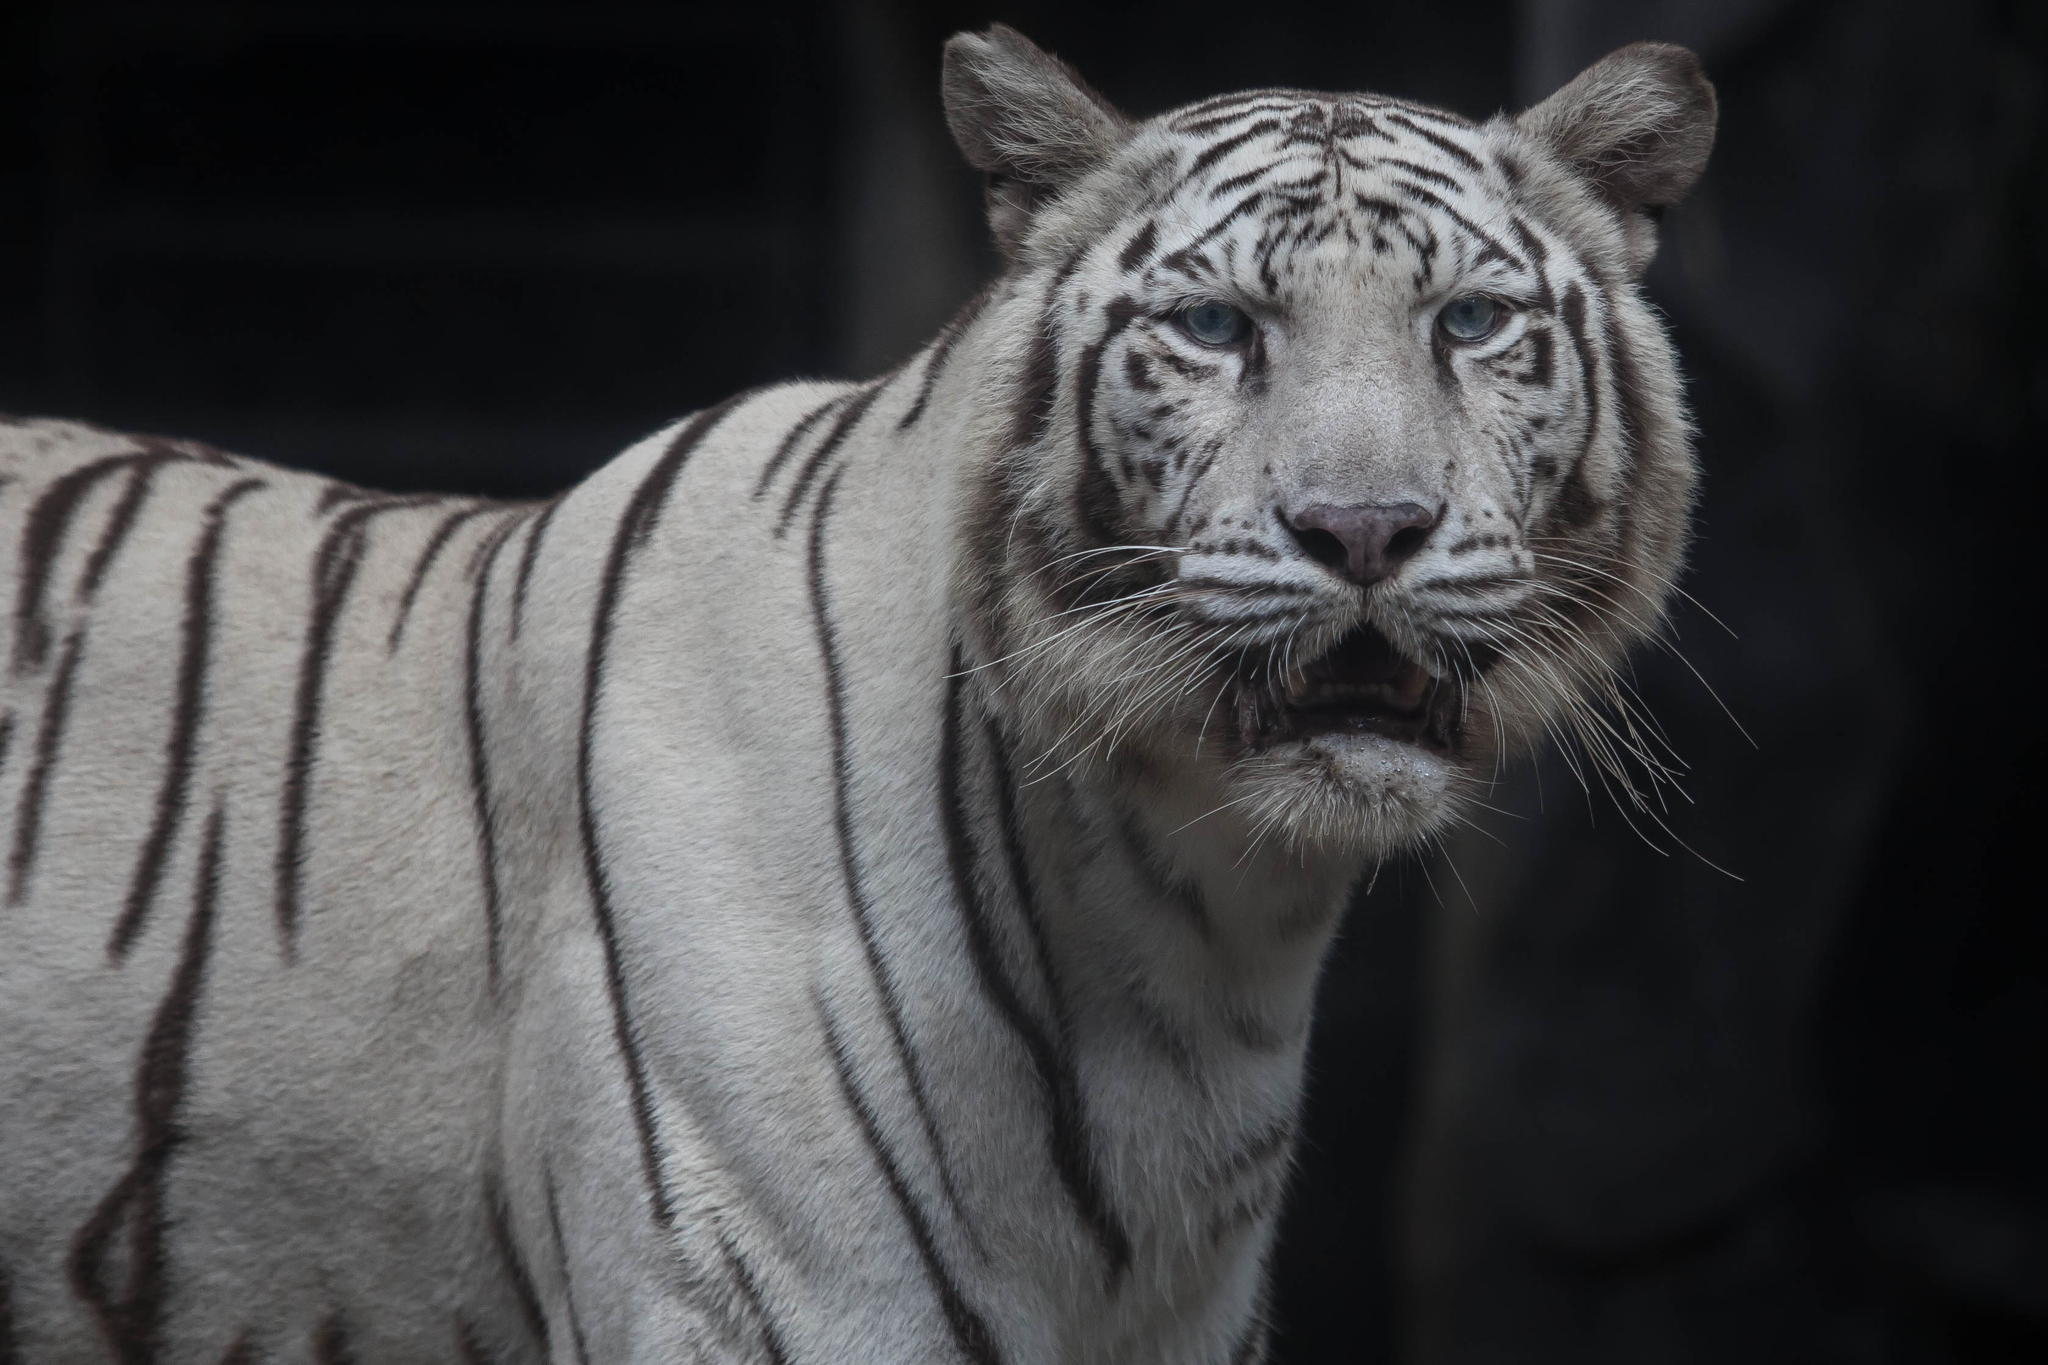tiger: (88, 37, 1768, 1271)
